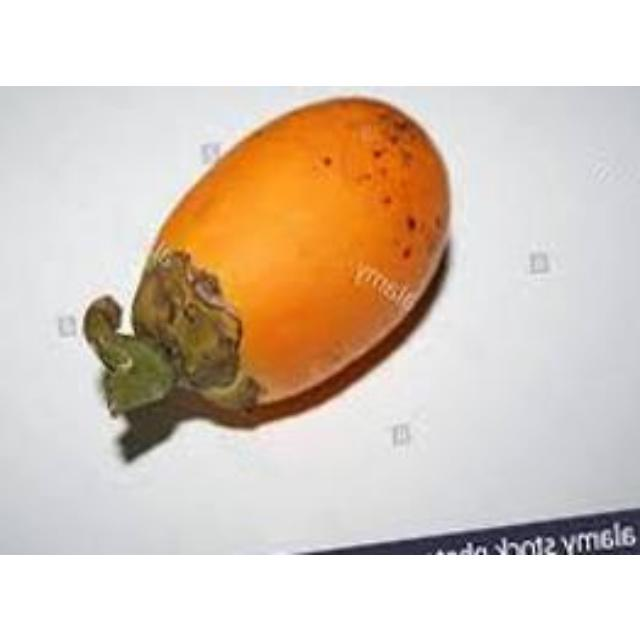good: (83, 95, 447, 422)
